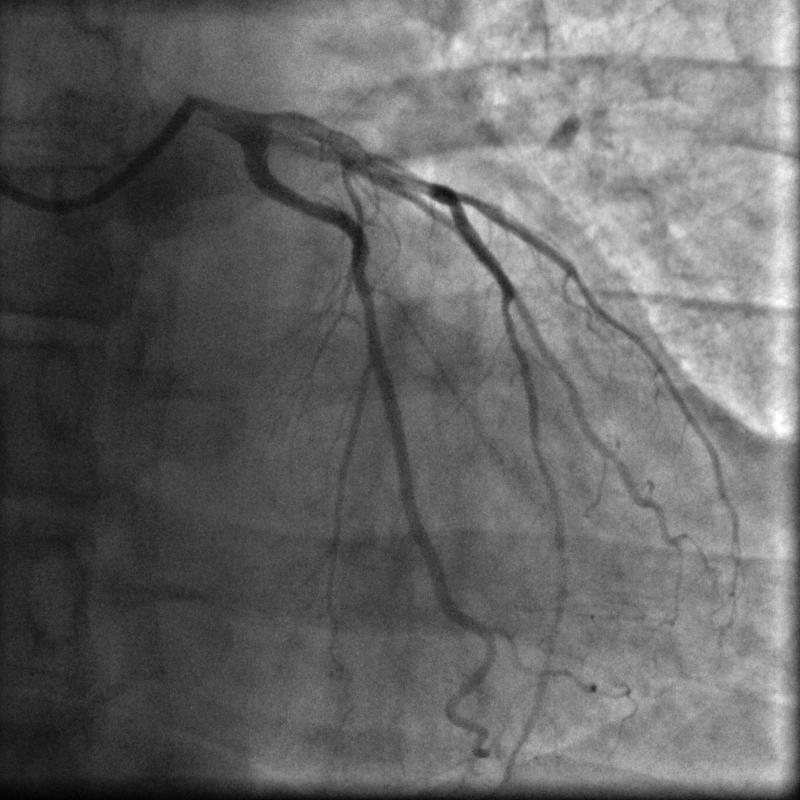Stenosis: (367, 153, 434, 198)
